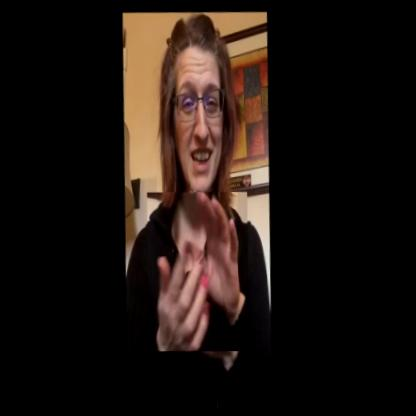NiceToMeetYou: (145, 188, 254, 352)
